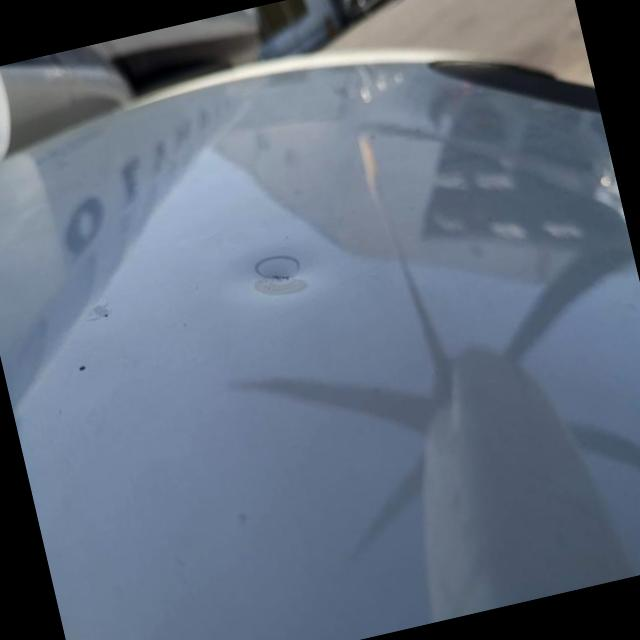dent: (187, 178, 347, 344)
